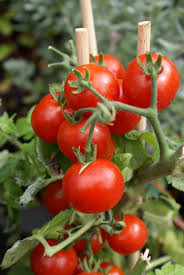stems: (82, 116, 94, 163), (82, 81, 108, 101), (72, 108, 96, 120), (150, 64, 156, 108)
tomato: (122, 53, 180, 113), (63, 159, 124, 214), (63, 64, 120, 116), (57, 115, 109, 161), (31, 90, 75, 144), (30, 238, 80, 275), (106, 214, 149, 255), (71, 224, 105, 254), (88, 53, 124, 81), (105, 108, 141, 135), (42, 177, 68, 214), (91, 263, 125, 275), (75, 272, 107, 275)
